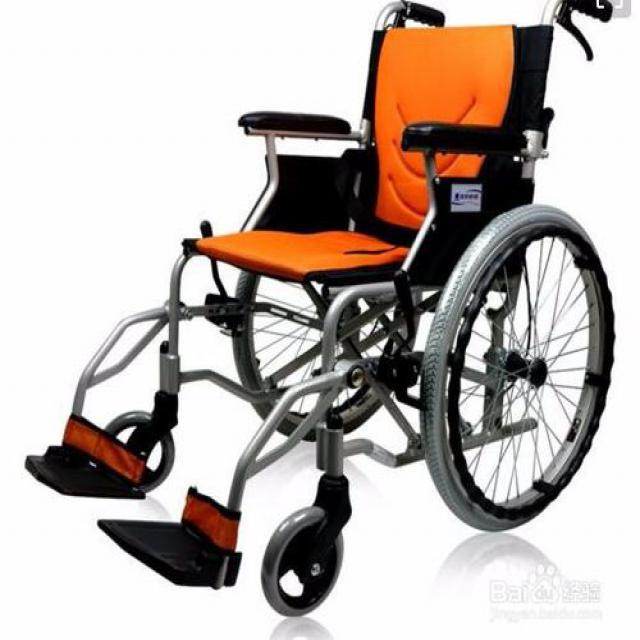wheelchair: (25, 2, 628, 614)
